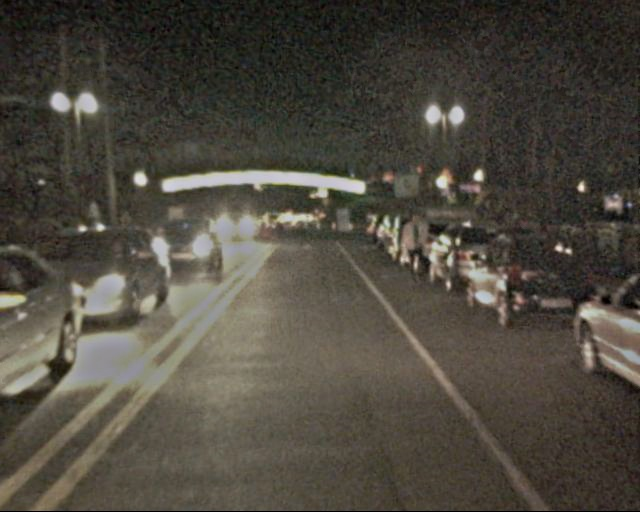person: (397, 209, 429, 286)
